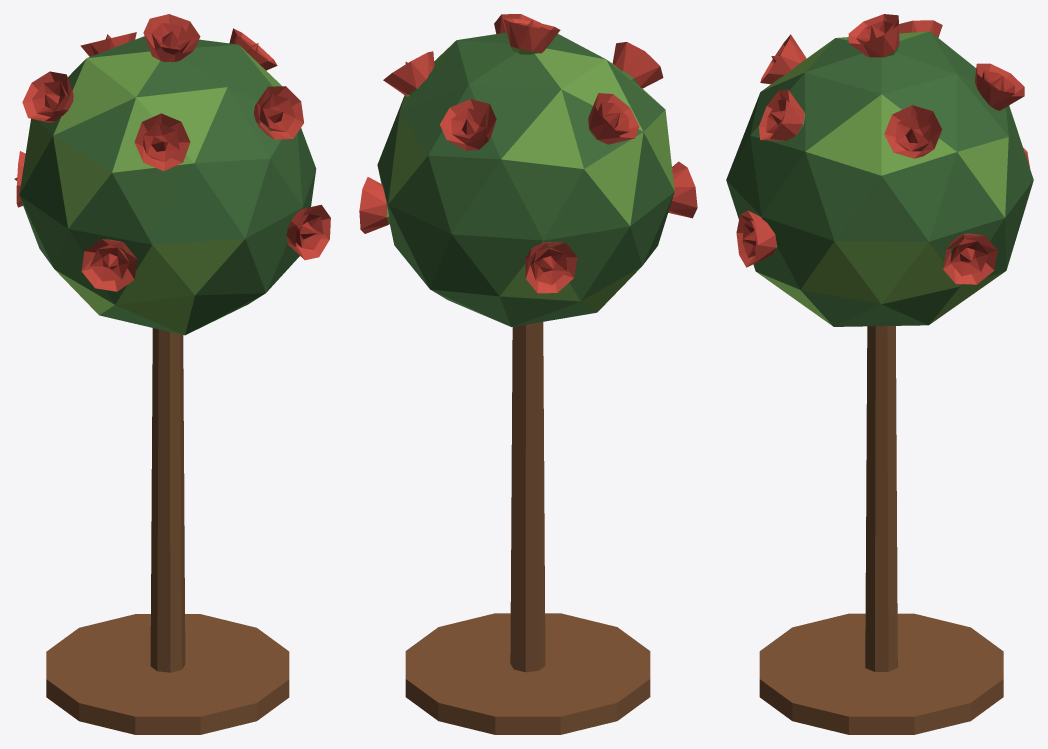
Rendered from FMS_Garden_Topiary_Standard_Rose.fbx.
3 renders of one model, left to right at view 1: azimuth 30°, elevation 25°; view 2: azimuth 150°, elevation 25°; view 3: azimuth 270°, elevation 25°, orthographic.
Parts seen in each view (by area): view 1: FMS_Garden_Topiary_Standard_Rose_Body; view 2: FMS_Garden_Topiary_Standard_Rose_Body; view 3: FMS_Garden_Topiary_Standard_Rose_Body.
Part boxes in pixels (<box>): FMS_Garden_Topiary_Standard_Rose_Body: <box>14,14,330,734</box>; FMS_Garden_Topiary_Standard_Rose_Body: <box>359,14,697,734</box>; FMS_Garden_Topiary_Standard_Rose_Body: <box>726,14,1033,734</box>.
Size of the model in its own units: 0.5817 by 1.45 by 0.6093.
Materials: 1 (1 with a texture image).
